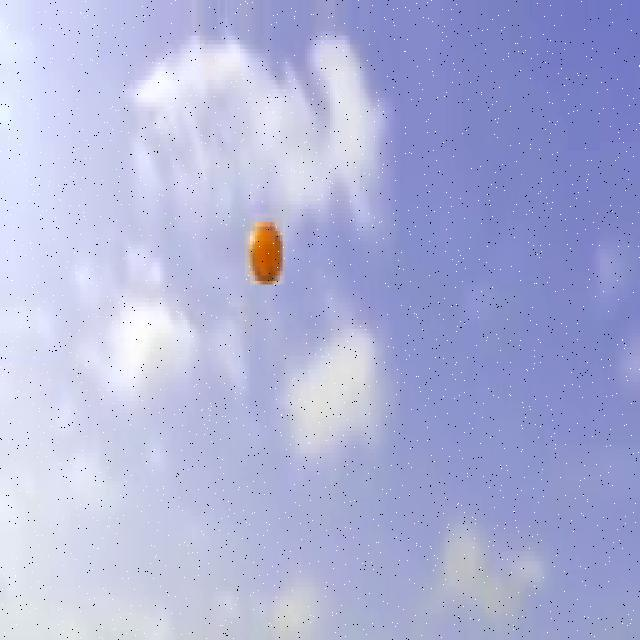red: (247, 220, 282, 285)
